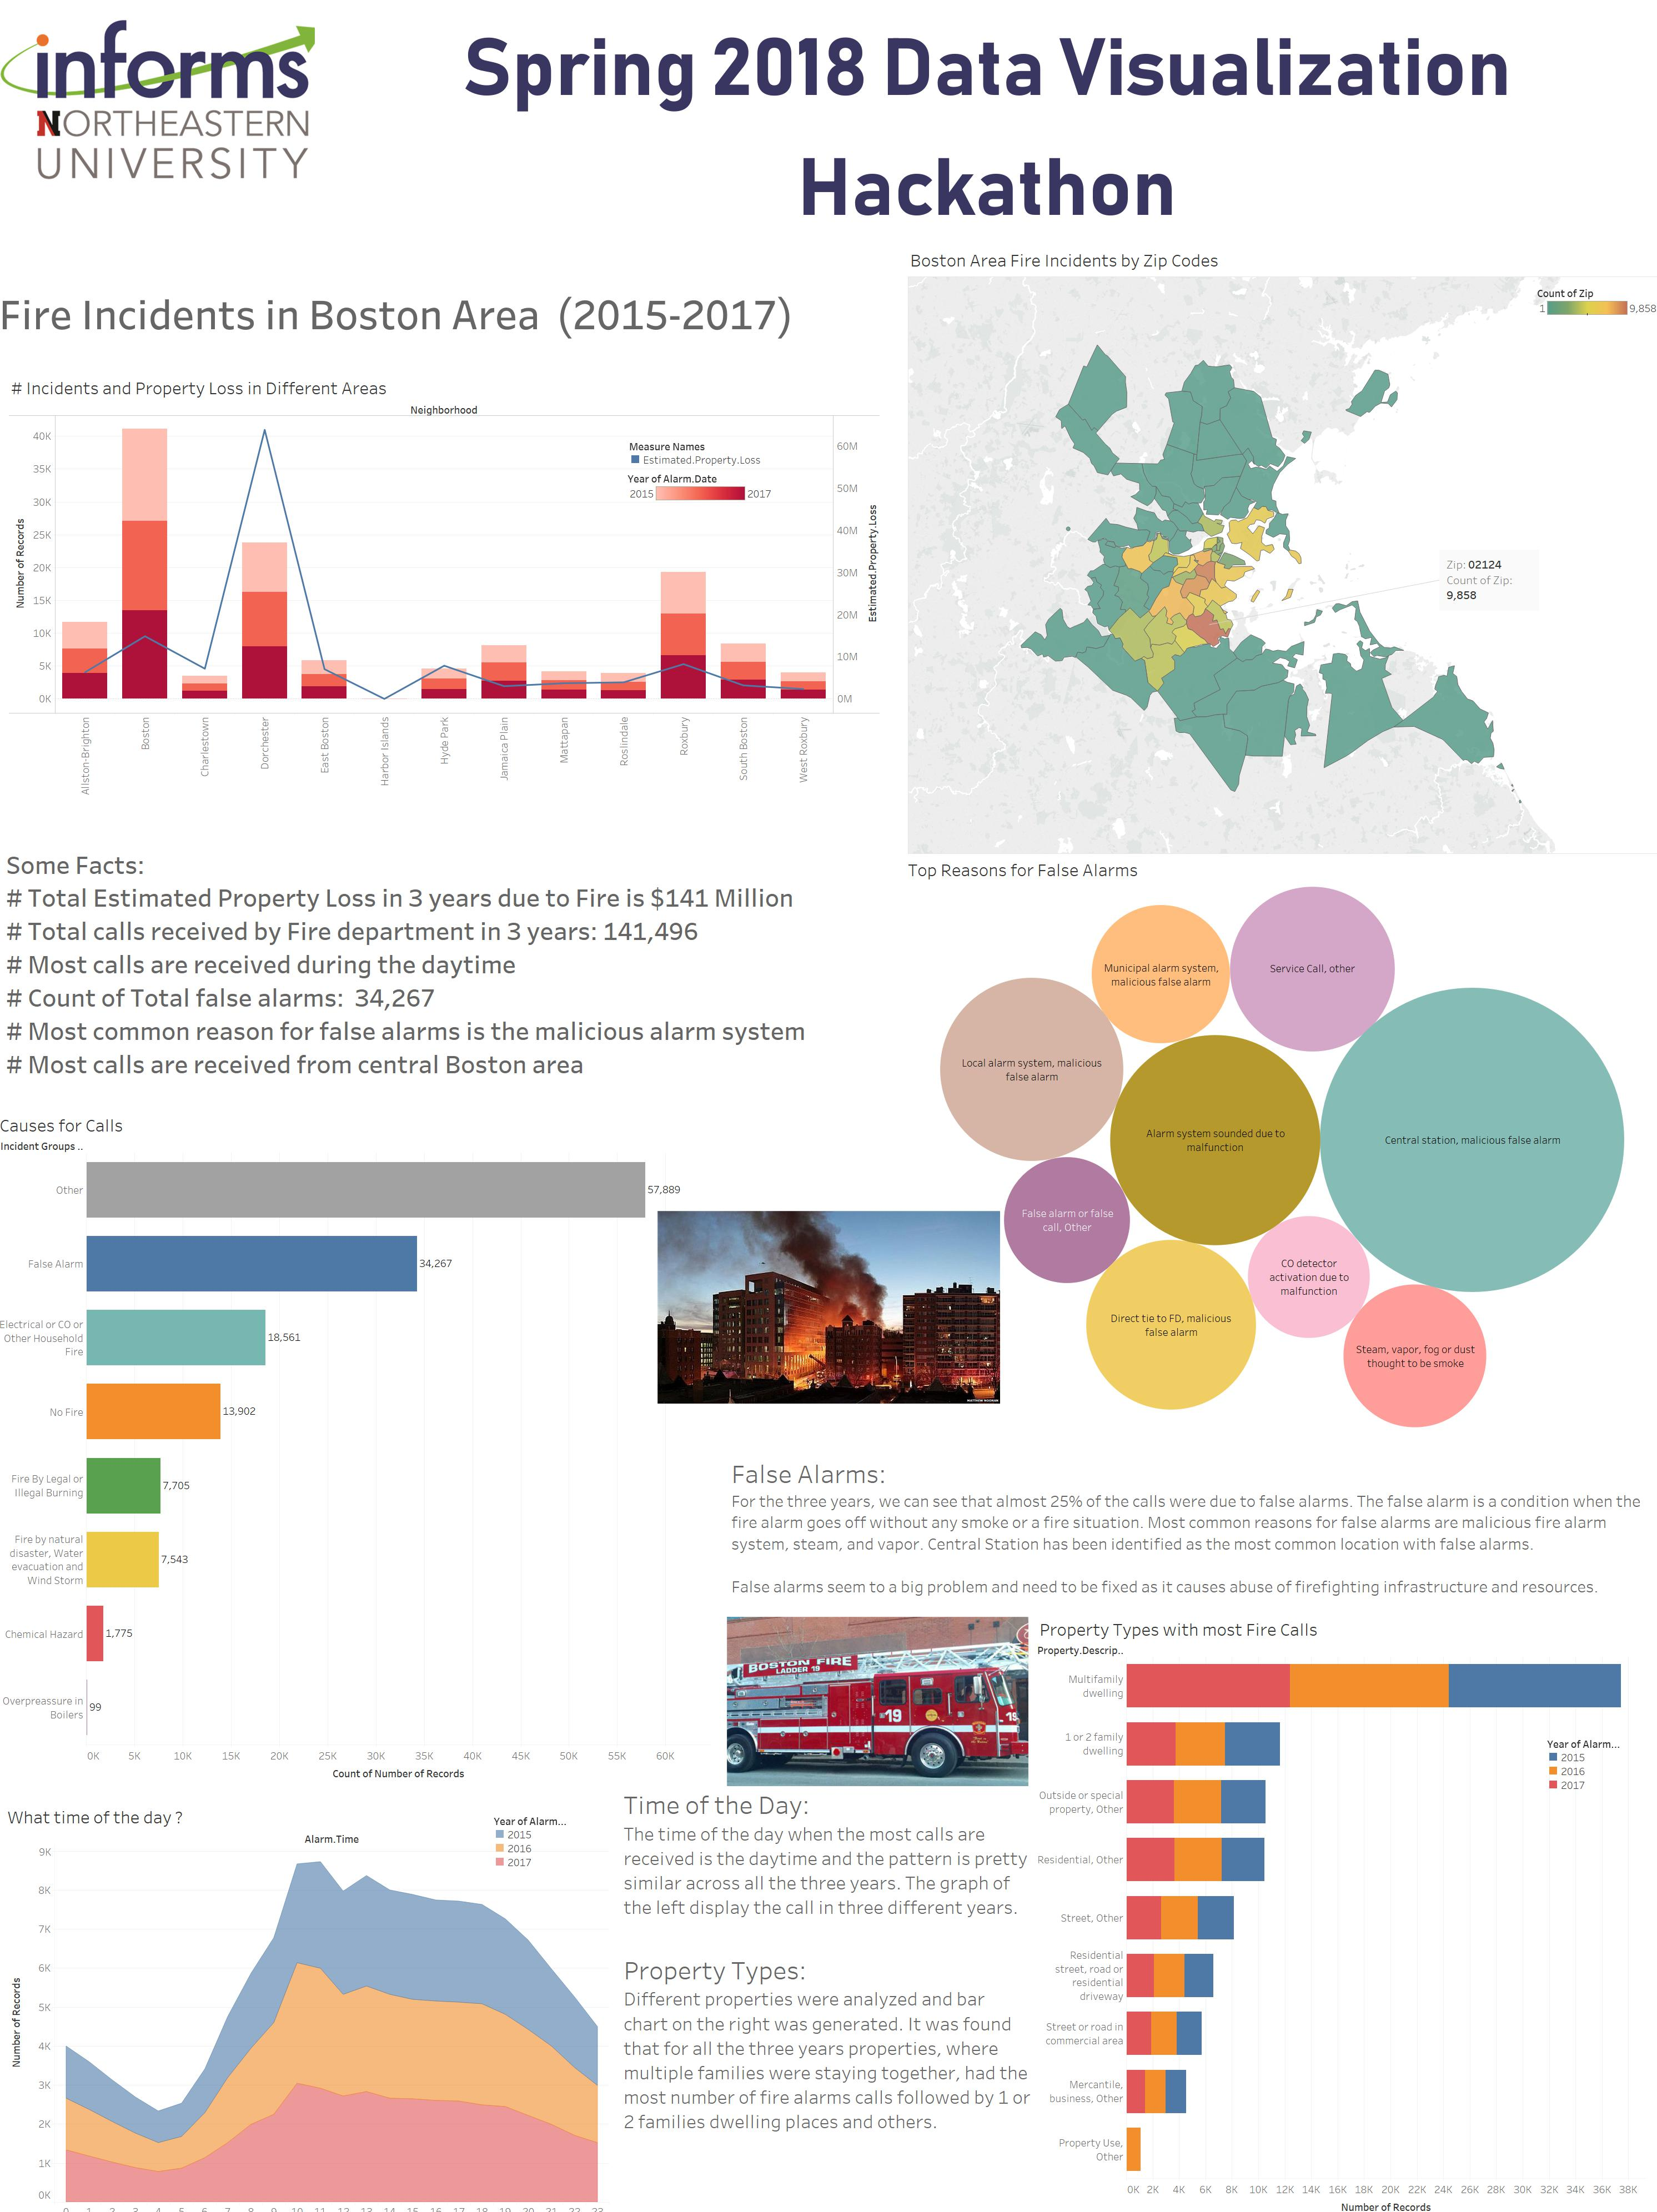

Layout of this report page (visuals, bound fields, positions):
{"tool":"tableau","page":{"name":"Dashboard 1","canvas":[3000,4000],"ordinal":0},"visuals":[{"type":"image","param":"C:/Users/yasha/Desktop/Informas Logo.png","box":[9,44,566,410]},{"type":"text","box":[565,49,2441,403]},{"type":"worksheet","title":"Boston Area Fire Incidents by Zip Codes","mark":"Automatic","box":[1643,449,1359,1097]},{"type":"text","box":[2,469,1616,205]},{"type":"legend","title":"Boston Area Fire Incidents by Zip Codes","param":"[federated.1hkvfb11qum2nx19x7d2y0oext2h].[cnt:Zip:qk]","box":[2776,519,220,104]},{"type":"worksheet","title":"# Incidents and Property Loss in Different Areas","mark":"Bar","rows":["Number of Records","Estimated.Property.Loss"],"cols":["Neighborhood"],"box":[24,679,1568,774]},{"type":"legend","title":"# Incidents and Property Loss in Different Areas","param":"[federated.1hkvfb11qum2nx19x7d2y0oext2h].[:Measure Names]","box":[1140,797,243,51]},{"type":"legend","title":"# Incidents and Property Loss in Different Areas","param":"[federated.1hkvfb11qum2nx19x7d2y0oext2h].[tyr:Alarm.Date:qk]","box":[1138,853,264,99]},{"type":"text","box":[15,1481,1615,525]},{"type":"worksheet","title":"Top Reasons for False Alarms","mark":"Circle","box":[1639,1547,1356,1032]},{"type":"worksheet","title":"Causes for Calls","mark":"Automatic","cols":["Number of Records"],"box":[3,2007,1285,1214]},{"type":"image","param":"C:/Users/yasha/Downloads/fire.jpg","box":[1192,2189,617,547]},{"type":"text","box":[1321,2600,1678,317]},{"type":"worksheet","title":"Property Types with most Fire Calls","mark":"Automatic","rows":["Property.Description"],"cols":["Number of Records"],"box":[1876,2915,1096,1087]},{"type":"image","param":"C:/Users/yasha/Downloads/bfd.jpg","box":[1317,2920,543,307]},{"type":"legend","title":"Property Types with most Fire Calls","param":"[federated.1hkvfb11qum2nx19x7d2y0oext2h].[yr:Alarm.Date:ok]","box":[2793,3134,140,101]},{"type":"text","box":[1127,3226,742,757]},{"type":"worksheet","title":"What time of the day ?","mark":"Area","rows":["Number of Records"],"cols":["Alarm.Time"],"box":[17,3253,1089,750]},{"type":"legend","title":"What time of the day ?","param":"[federated.1hkvfb11qum2nx19x7d2y0oext2h].[yr:Alarm.Date:ok]","box":[896,3273,140,151]}]}

Visuals, with their boxes in screenshot pixels (x1, y1, x2, y2), scaled from the page's 3000x4000 canvas onto the 1657x2212 screenshot:
image: rect(5, 24, 318, 251)
text: rect(312, 27, 1656, 250)
"Boston Area Fire Incidents by Zip Codes" worksheet: rect(907, 248, 1656, 855)
text: rect(1, 259, 893, 373)
"Boston Area Fire Incidents by Zip Codes" legend: rect(1533, 287, 1655, 345)
"# Incidents and Property Loss in Different Areas" worksheet (Bar marks): rect(13, 375, 880, 803)
"# Incidents and Property Loss in Different Areas" legend: rect(630, 441, 764, 469)
"# Incidents and Property Loss in Different Areas" legend: rect(629, 472, 775, 526)
text: rect(8, 819, 900, 1109)
"Top Reasons for False Alarms" worksheet (Circle marks): rect(905, 856, 1654, 1426)
"Causes for Calls" worksheet: rect(2, 1110, 711, 1781)
image: rect(659, 1210, 999, 1513)
text: rect(730, 1438, 1656, 1613)
"Property Types with most Fire Calls" worksheet: rect(1036, 1612, 1641, 2211)
image: rect(727, 1615, 1027, 1784)
"Property Types with most Fire Calls" legend: rect(1543, 1733, 1620, 1789)
text: rect(622, 1784, 1032, 2203)
"What time of the day ?" worksheet (Area marks): rect(9, 1799, 611, 2211)
"What time of the day ?" legend: rect(495, 1810, 572, 1893)
